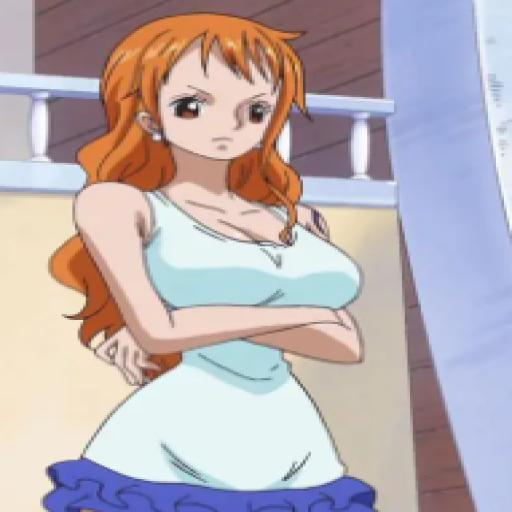Nami: (37, 8, 393, 512)
